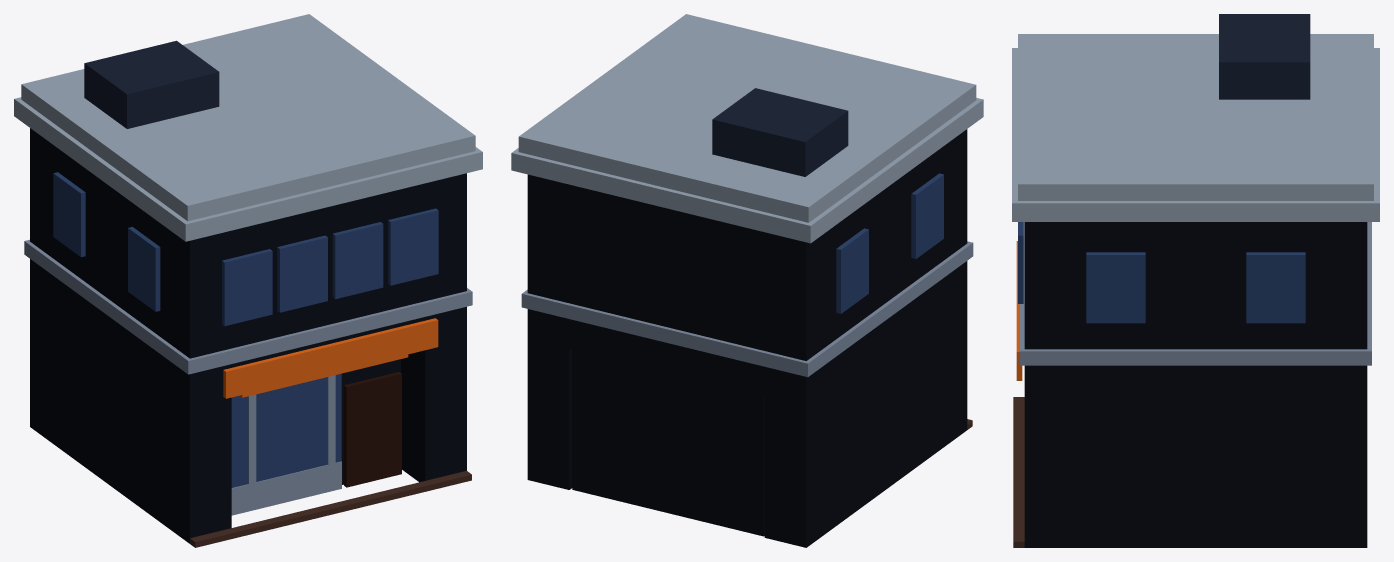
Rendered from highstreet1.obj.
3 renders of one model, left to right at view 1: azimuth 30°, elevation 25°; view 2: azimuth 150°, elevation 25°; view 3: azimuth 270°, elevation 25°, orthographic. The views are drawn at different scales.
Parts seen in each view (by area): view 1: cornice, ground-piers, upper-floor, upper-windows, roof-plant, shopfront, floor-band, fascia-sign, shop-door, mullions, side-windows, pavement (+3 smaller); view 2: cornice, upper-floor, ground-piers, ground-back, roof-plant, floor-band, shopfront-head, side-windows; view 3: cornice, ground-piers, upper-floor, side-windows, roof-plant, floor-band, pavement, upper-windows, fascia-sign.
Part boxes in pixels (box(x1,y1,x2,y2)): cornice: box(14, 14, 482, 241); ground-piers: box(30, 259, 466, 543); upper-floor: box(30, 128, 466, 358); upper-windows: box(222, 208, 438, 326); roof-plant: box(84, 40, 219, 128); shopfront: box(231, 373, 341, 487); floor-band: box(24, 239, 472, 374); fascia-sign: box(223, 318, 438, 398); shop-door: box(344, 372, 401, 487); mullions: box(231, 375, 341, 515); side-windows: box(53, 172, 160, 311); pavement: box(190, 471, 471, 547); cornice: box(511, 14, 983, 243); upper-floor: box(527, 129, 967, 360); ground-piers: box(527, 261, 967, 547); ground-back: box(572, 350, 764, 536); roof-plant: box(712, 88, 848, 176); floor-band: box(521, 241, 973, 377); shopfront-head: box(569, 319, 764, 396); side-windows: box(836, 173, 943, 313); cornice: box(1012, 34, 1379, 221); ground-piers: box(1024, 365, 1367, 547); upper-floor: box(1024, 222, 1367, 349); side-windows: box(1086, 252, 1305, 323); roof-plant: box(1219, 14, 1310, 99); floor-band: box(1020, 222, 1371, 365); pavement: box(1013, 397, 1024, 547); upper-windows: box(1018, 222, 1023, 303); fascia-sign: box(1016, 241, 1022, 380).
Size of the model in its own units: 3.22 by 3.9 by 3.22.
